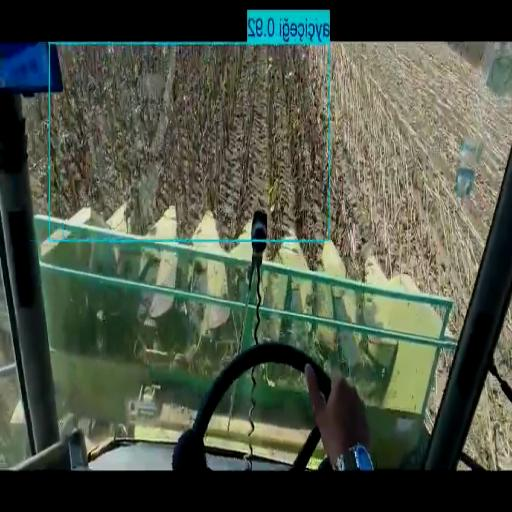ayc: (25, 48, 349, 243)
